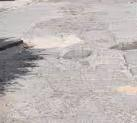pothole: (62, 47, 97, 63), (108, 38, 137, 52), (112, 82, 137, 95)
